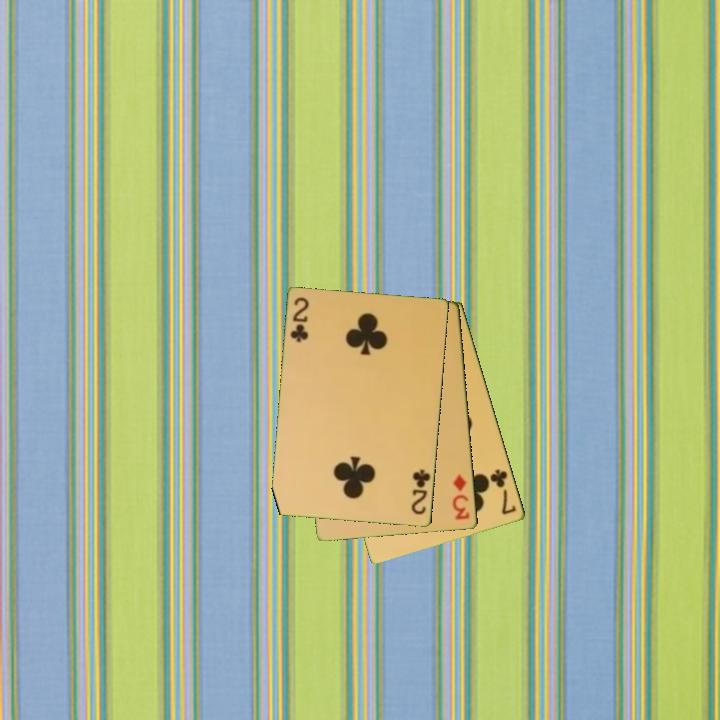2c: (408, 466, 433, 518), (287, 294, 312, 345)
3d: (449, 471, 473, 523)
7c: (487, 466, 519, 518)
